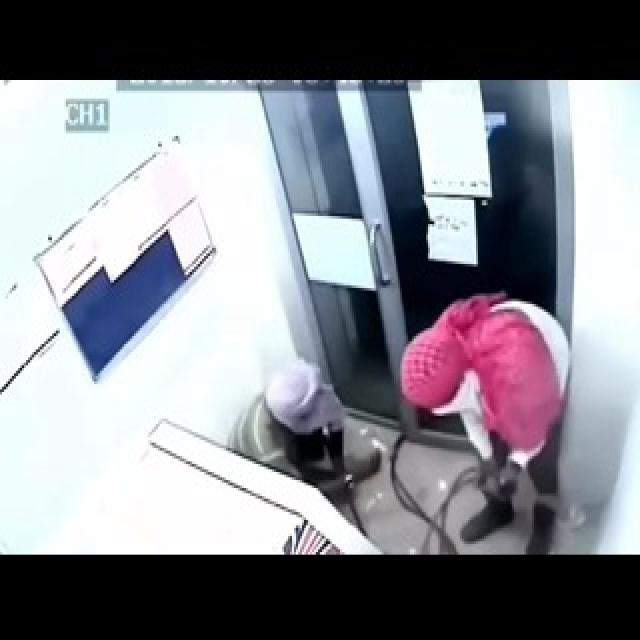thief: (398, 308, 590, 513), (247, 377, 354, 500)
